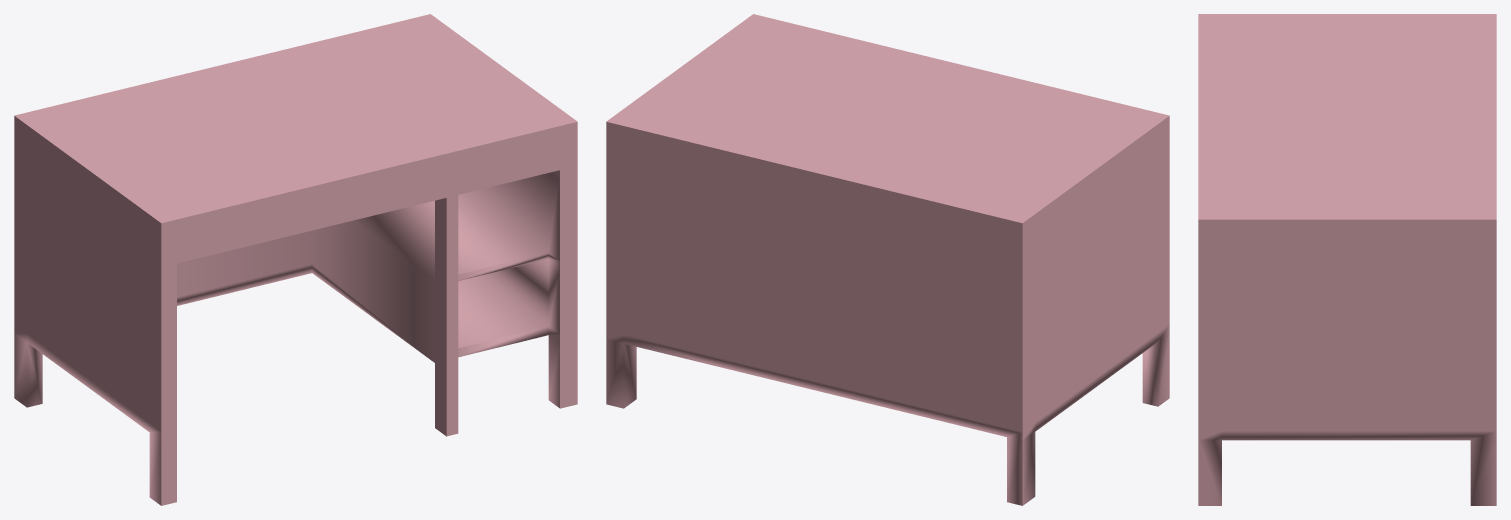
Rendered from Desk.fbx.
The picture shows the model from 3 angles, left to right: view 1: azimuth 30°, elevation 25°; view 2: azimuth 150°, elevation 25°; view 3: azimuth 270°, elevation 25°; orthographic projection.
Parts seen in each view (by area): view 1: pCube1; view 2: pCube1; view 3: pCube1.
Part boxes in pixels (bbox=[...]): pCube1: bbox=[14, 14, 577, 505]; pCube1: bbox=[606, 14, 1169, 505]; pCube1: bbox=[1198, 14, 1496, 505].
Bounding box in the file's own units: 2.43 × 1.58 × 1.49.
